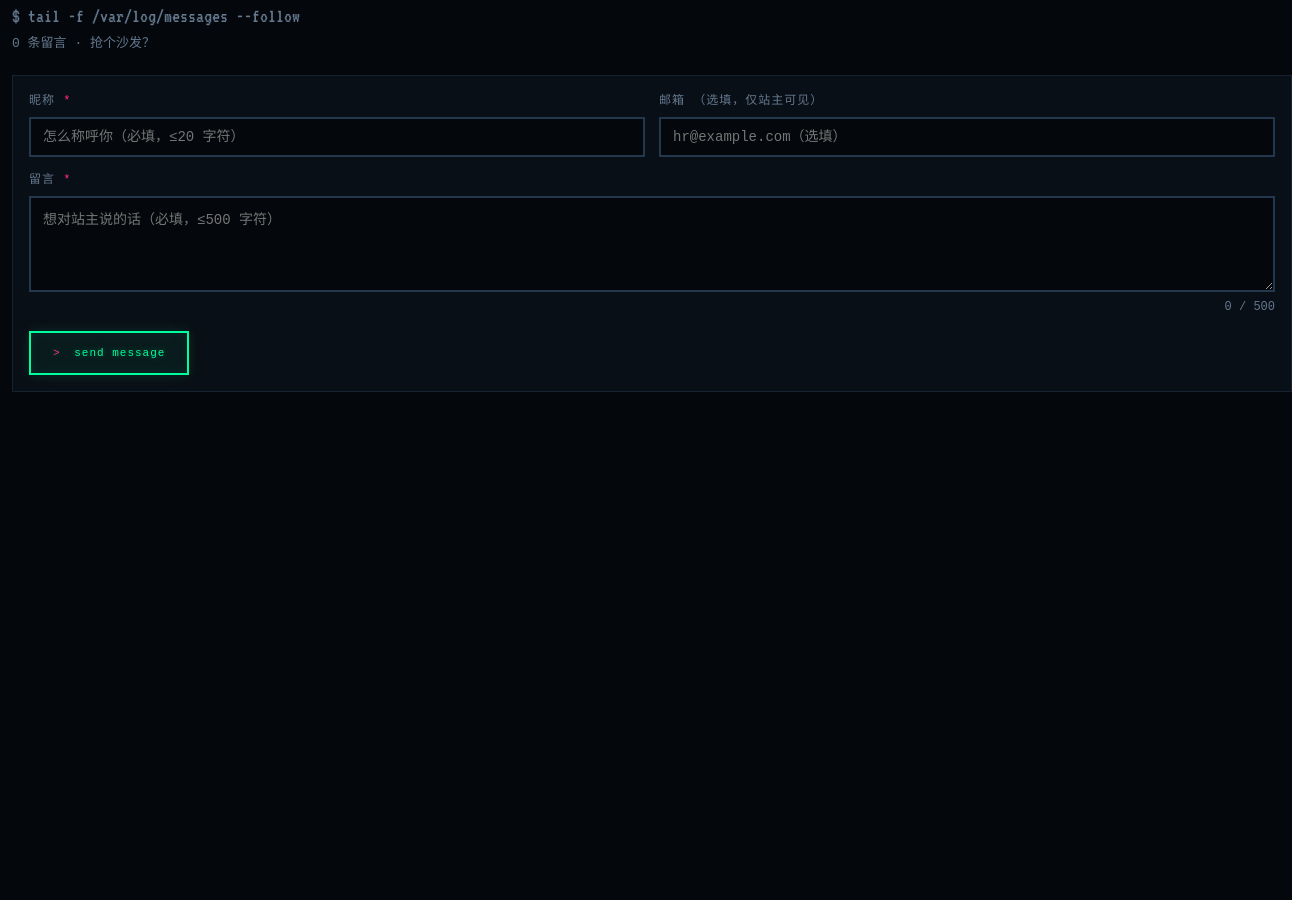
提交成功 › toast 显示 `> message sent ✓`，打 message_submit 埋点并刷新列表
The image size is (1292, 900).
Type "HR" into the field named "nickname" at (337, 137), box top-left (29, 117), bottom-right (645, 157)
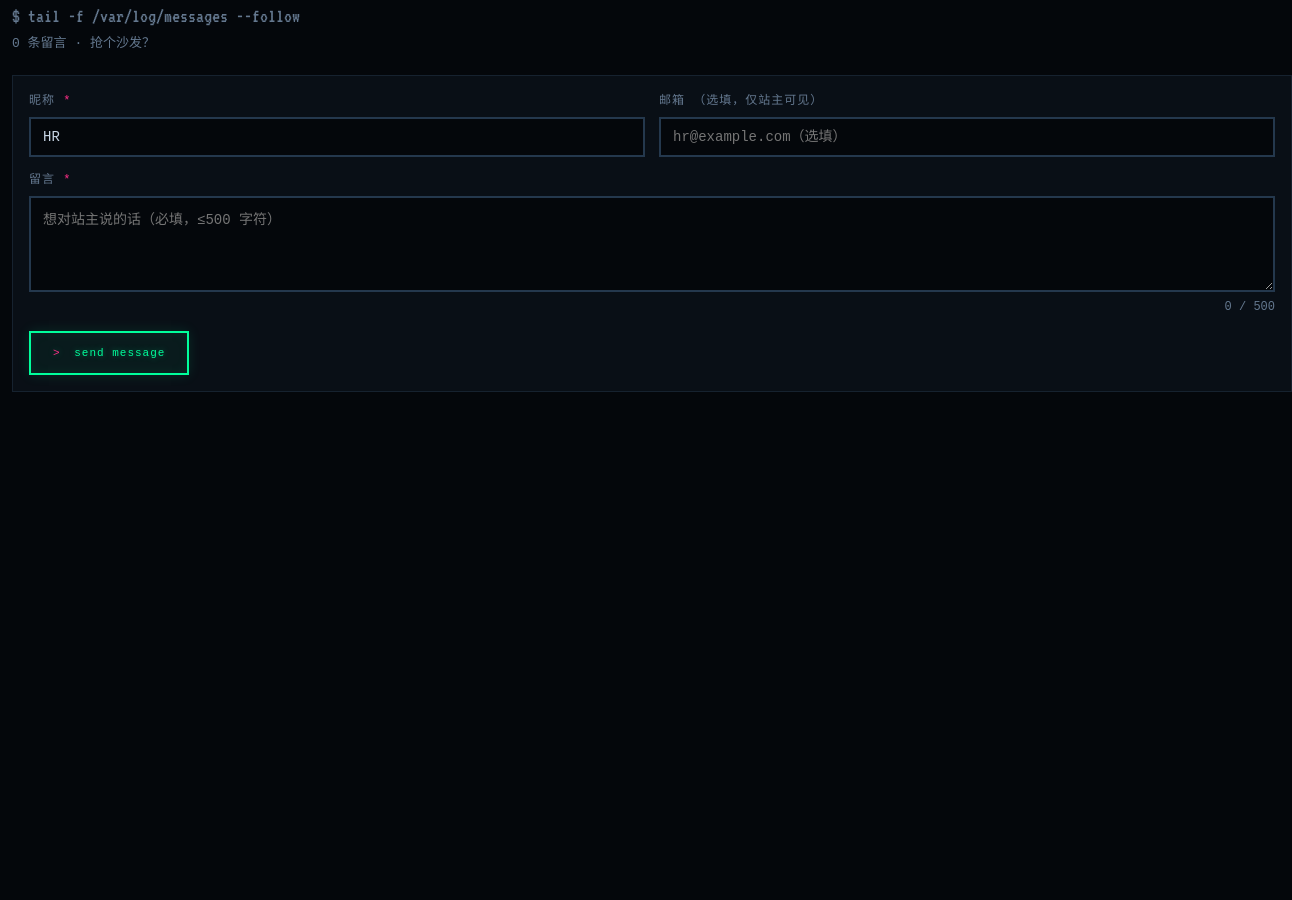
Type "hr@example.com" into the field named "email" at (967, 137), box top-left (659, 117), bottom-right (1275, 157)
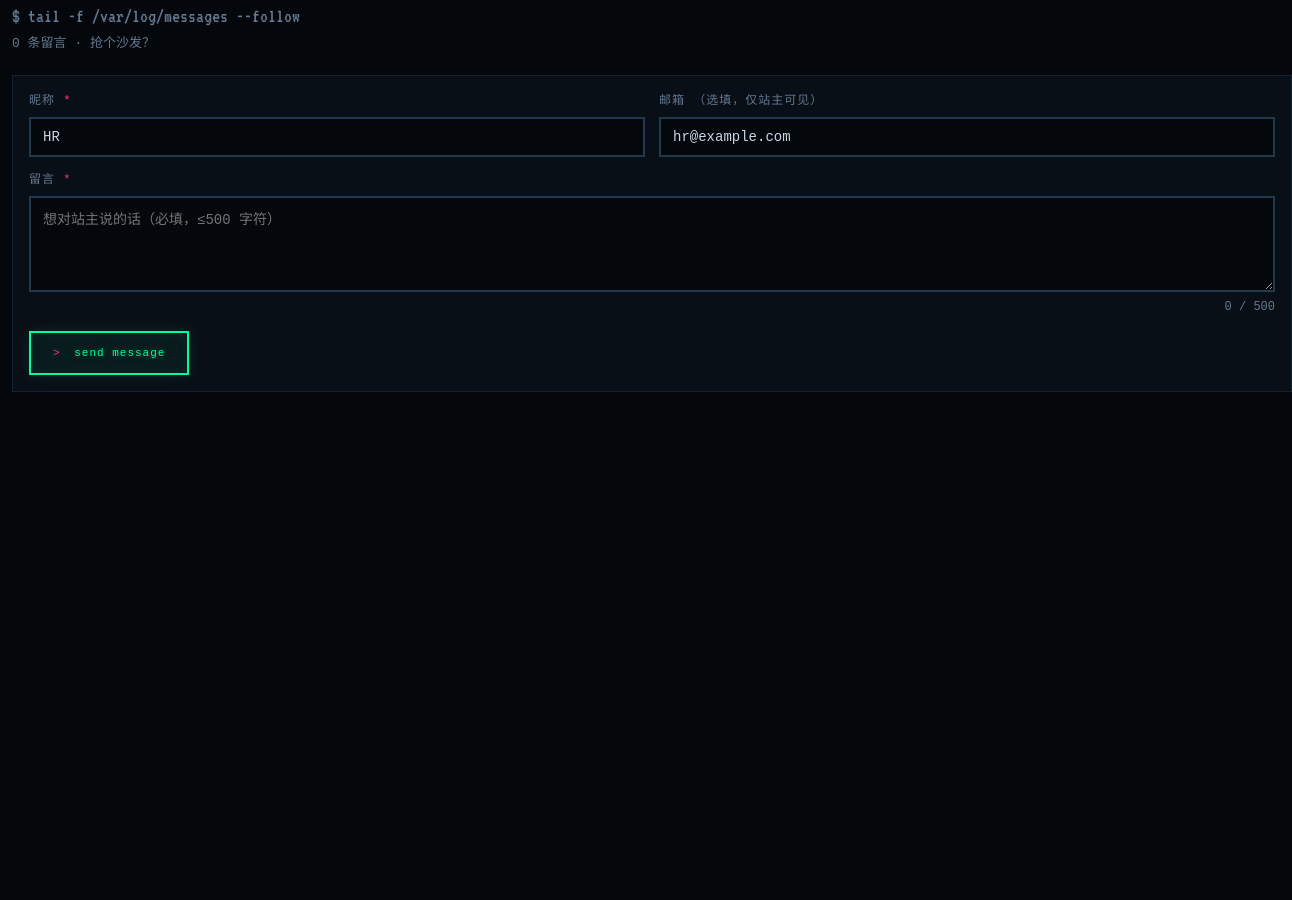
Type "想约面试" into the text box named "content" at (652, 244), box top-left (29, 196), bottom-right (1275, 292)
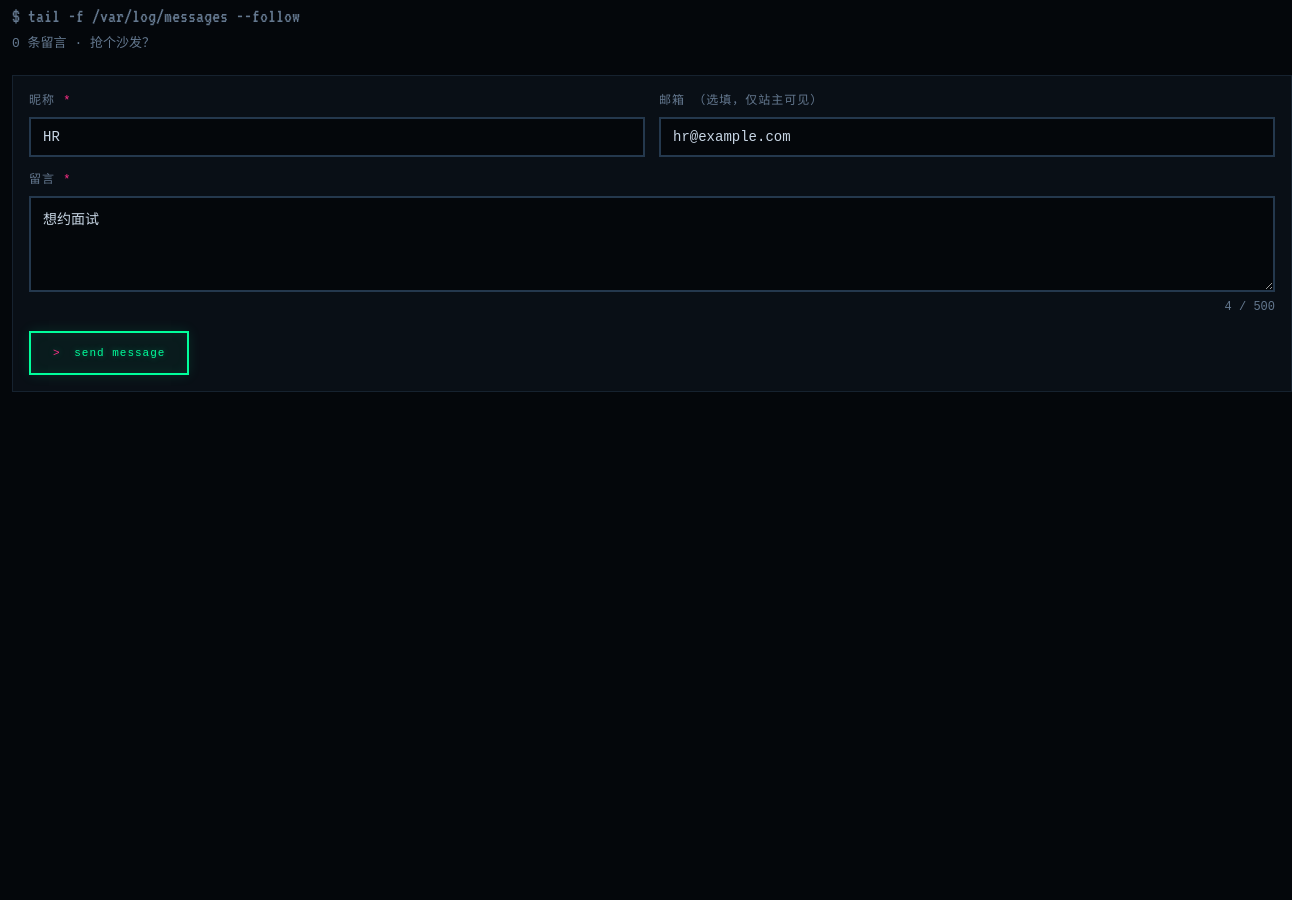
Submit the form, box top-left (12, 75), bottom-right (1291, 392)
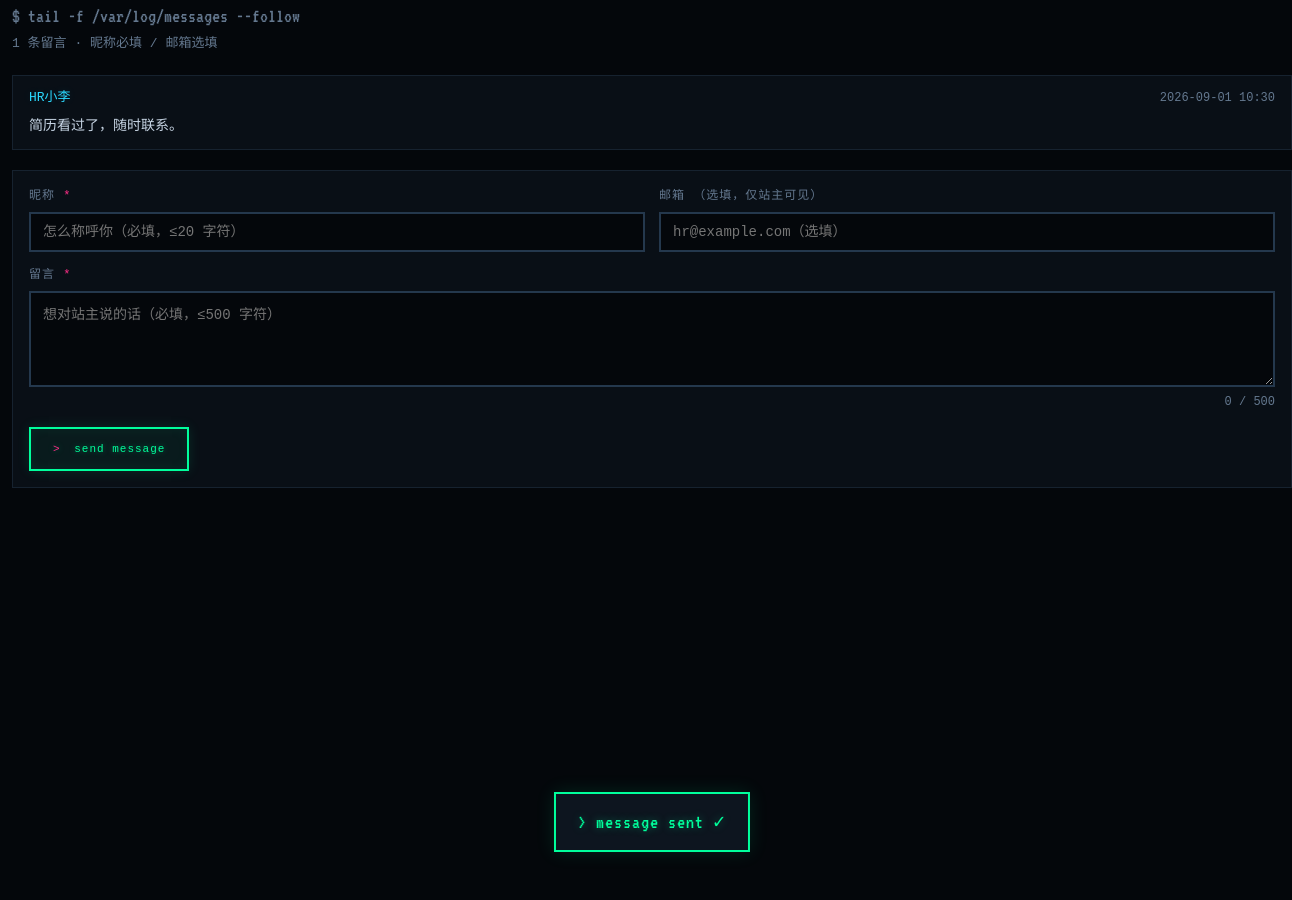
Expected: the message with class "toast" reads "> message sent ✓", top-left (578, 812), bottom-right (726, 832)
Expected: the text box named "content" is empty, top-left (29, 291), bottom-right (1275, 387)
